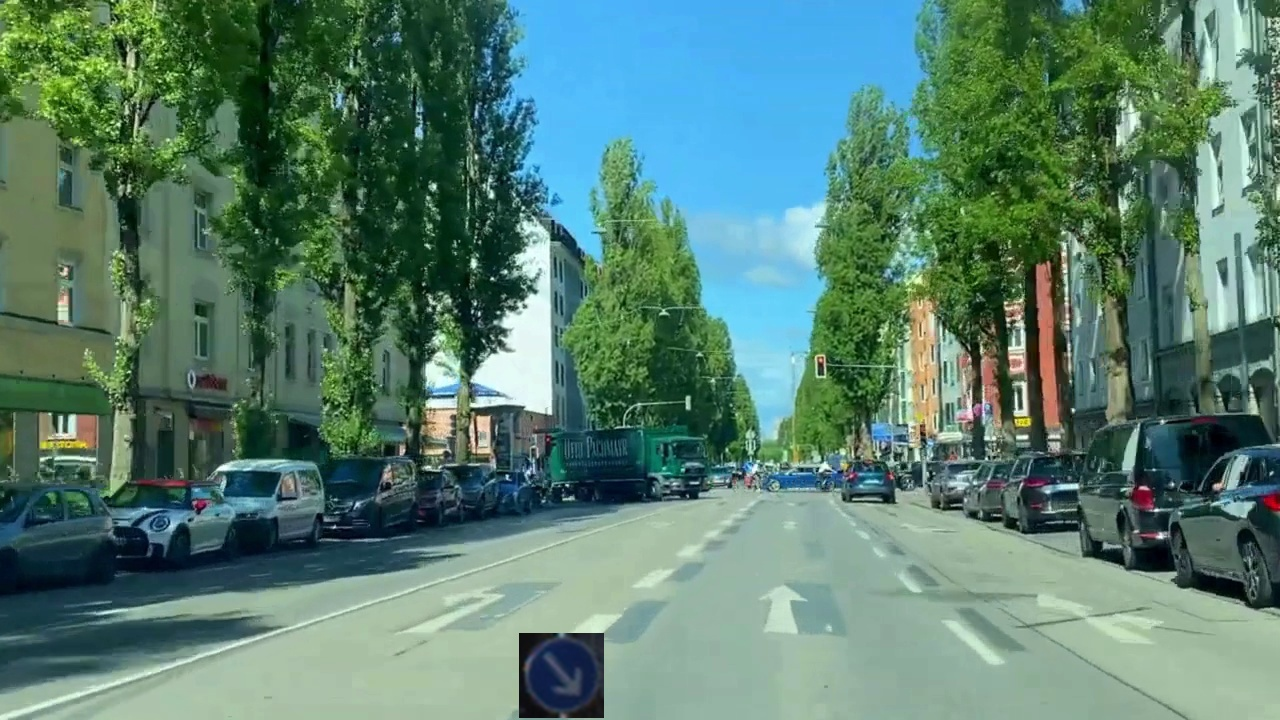Keep right: (519, 633, 604, 718)
